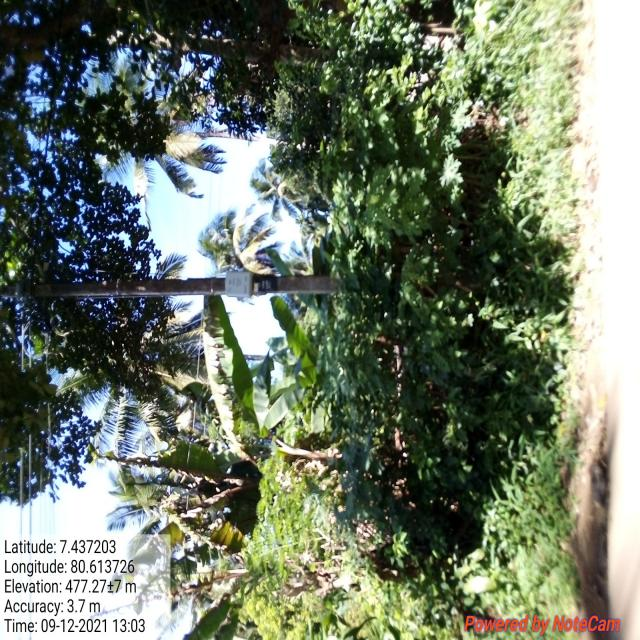light_pole: (2, 270, 373, 310)
